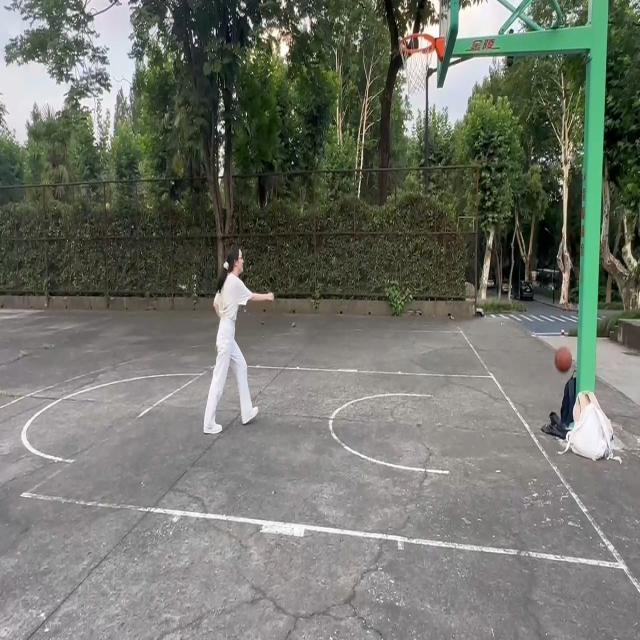basketball: (400, 34, 448, 124)
rim: (554, 345, 574, 373)
